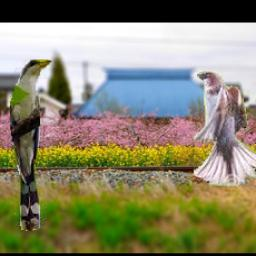Cuckoo: (10, 59, 52, 231)
Sparrow: (194, 71, 256, 187)
